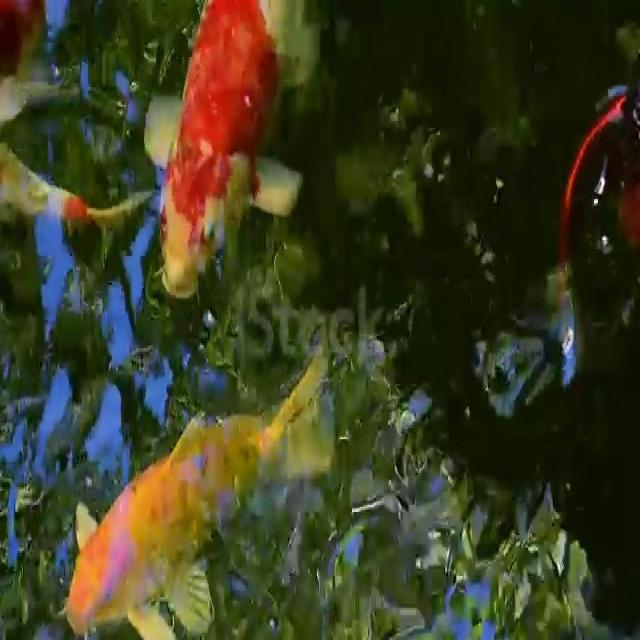fish: (44, 347, 353, 640), (134, 0, 323, 307)
